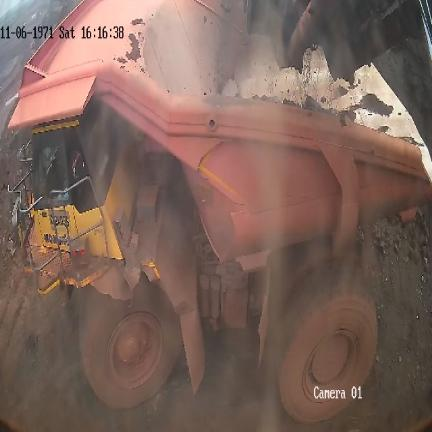pile: (364, 213, 432, 418)
